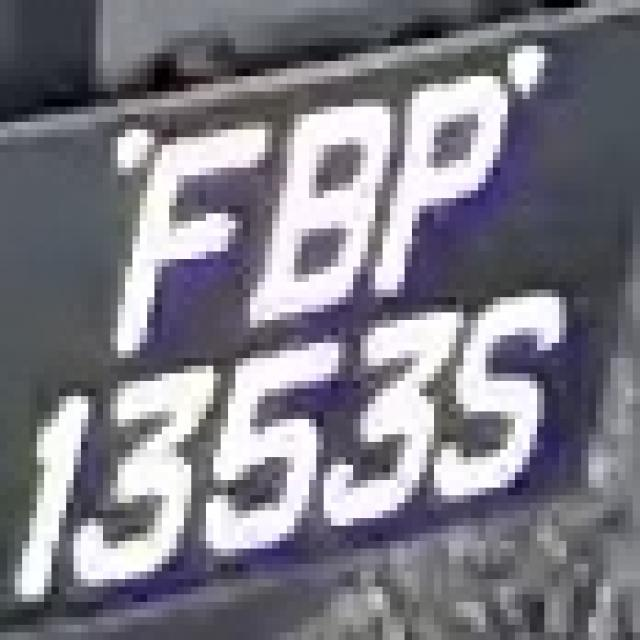1: (7, 373, 81, 617)
3: (324, 274, 456, 541), (88, 358, 206, 579)
5: (206, 328, 324, 579)
B: (250, 68, 383, 350)
F: (96, 114, 250, 358)
P: (382, 76, 508, 305)
S: (419, 267, 552, 495)
